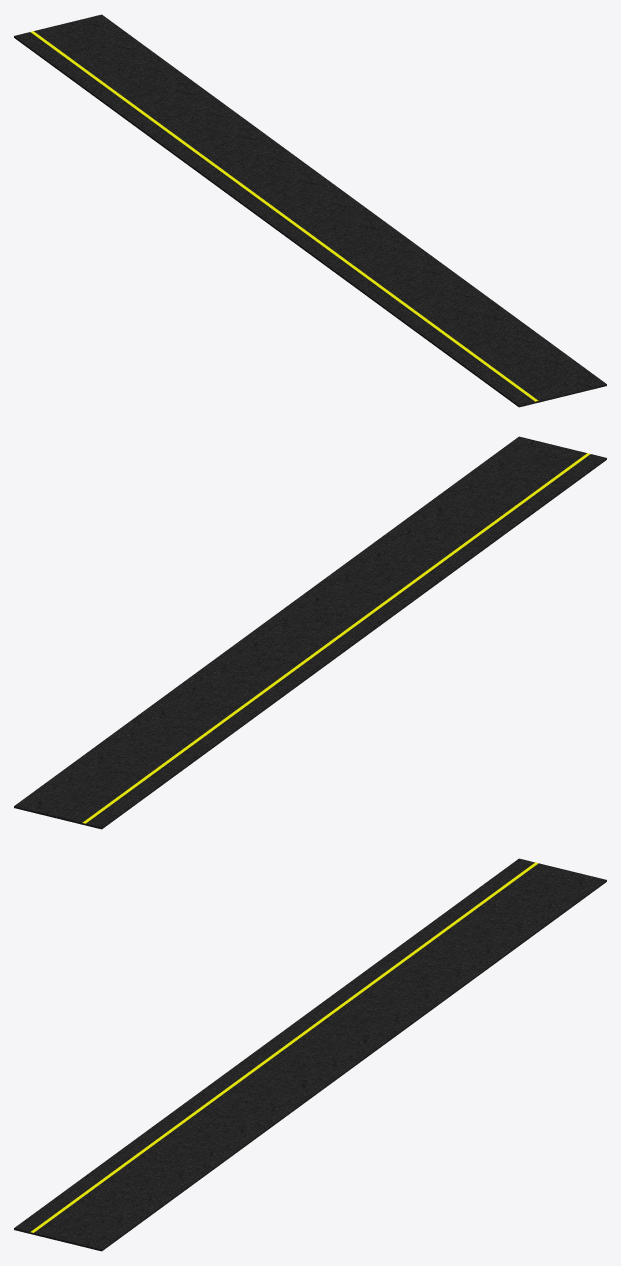
The model's file is left_50m.dae.
3 views of the same model, one above another, from view 1: azimuth 30°, elevation 25°; view 2: azimuth 150°, elevation 25°; view 3: azimuth 330°, elevation 25° (orthographic).
Parts seen in each view (by area): view 1: group_0, group_0_001; view 2: group_0, group_0_001; view 3: group_0, group_0_001.
Part boxes in pixels (bbox=[...]): group_0: bbox=[14, 14, 606, 407]; group_0_001: bbox=[30, 31, 538, 401]; group_0: bbox=[14, 436, 606, 829]; group_0_001: bbox=[82, 453, 590, 823]; group_0: bbox=[14, 858, 606, 1251]; group_0_001: bbox=[30, 862, 538, 1232].
Size of the model in its own units: 5 by 49.71 by 0.0999.
Materials: 2 (1 with a texture image).
